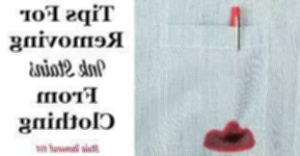ink: (203, 124, 256, 150)
